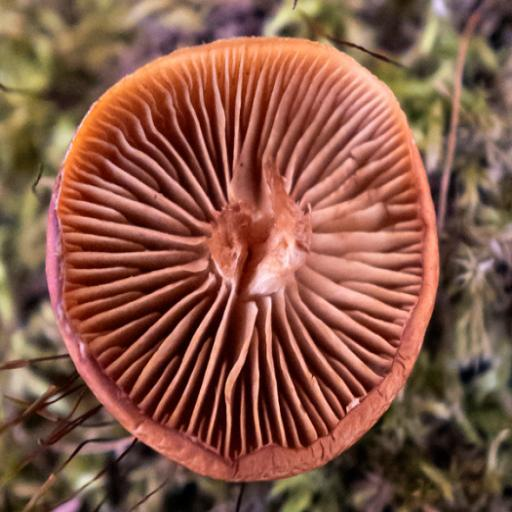mushroom: (44, 37, 437, 481)
